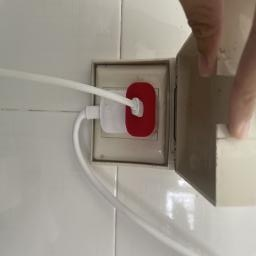outlet: (81, 53, 172, 185)
